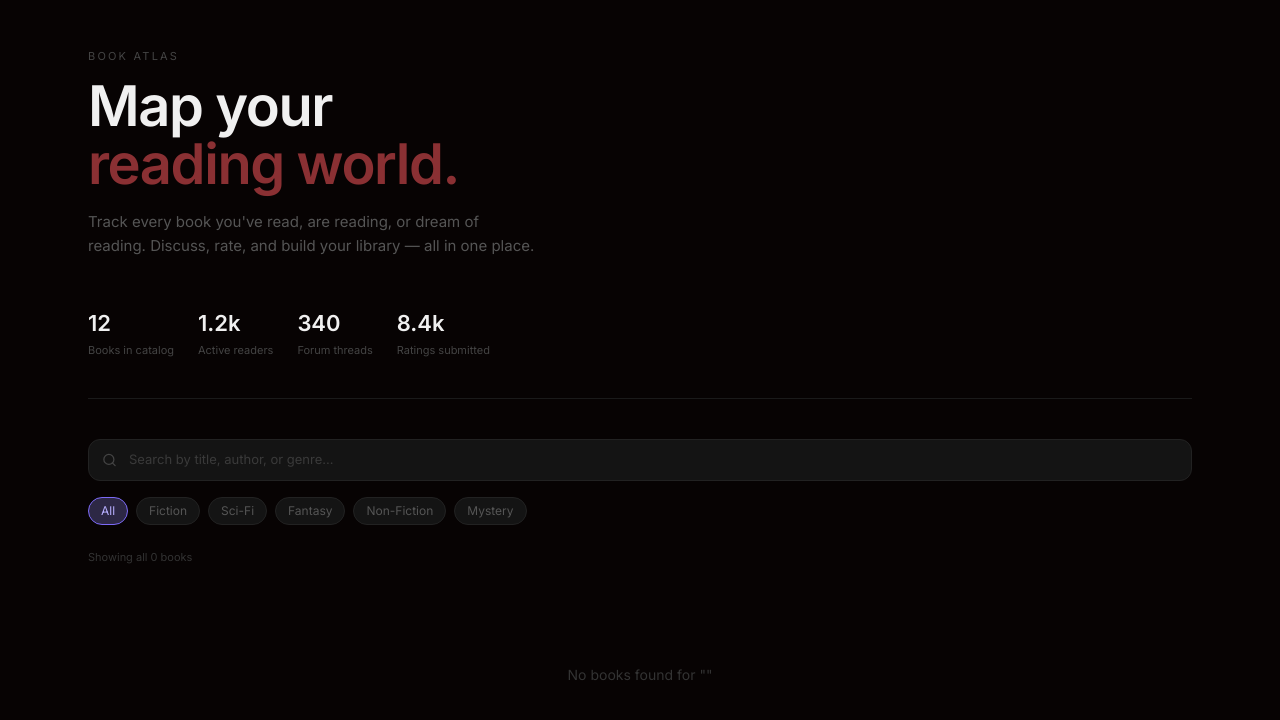
Test: DiscoverPage › displays the empty-results message
The image size is (1280, 720).
In the field with placeholder "Search by title, author, or genre…": [640, 460] box [88, 439, 1192, 481], type "Unknown"
(page scrolled)
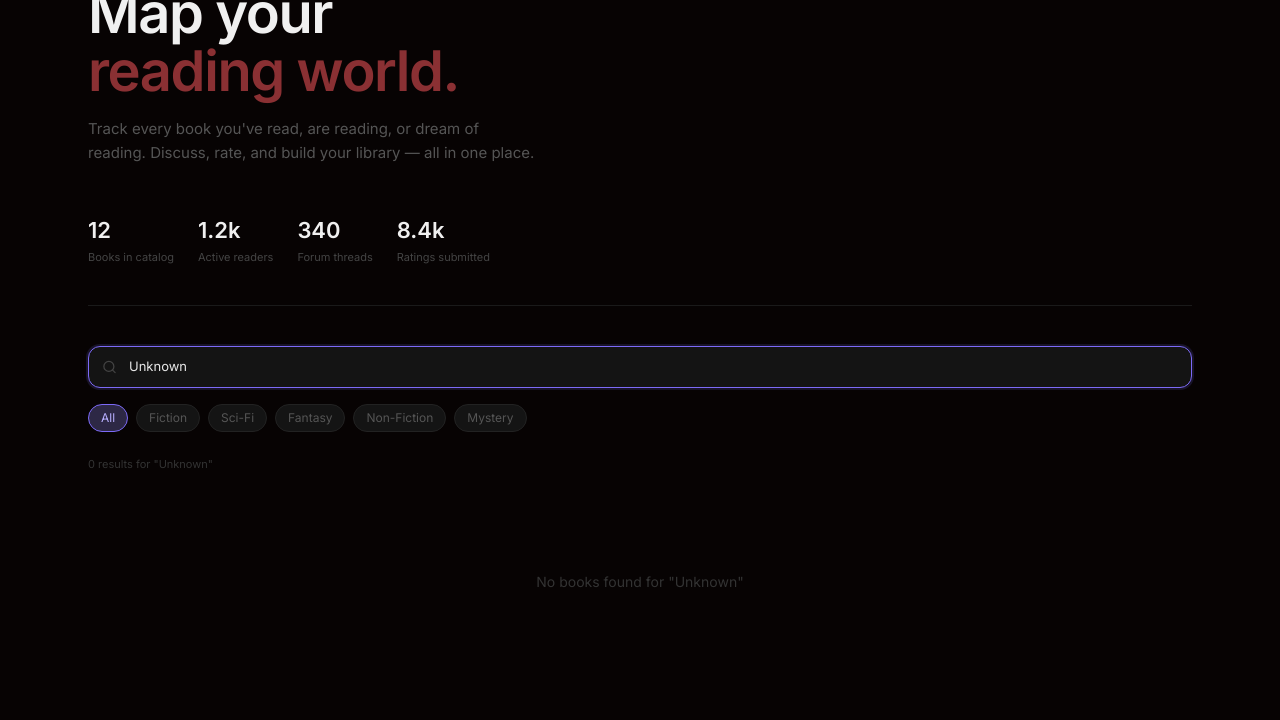
Expected: the text "No books found for \"Unknown\"" is shown, [536, 573, 744, 590]
